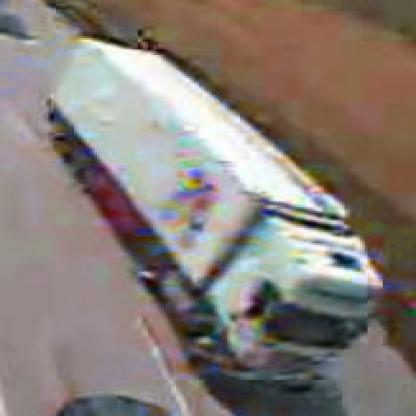container: (47, 50, 368, 383)
